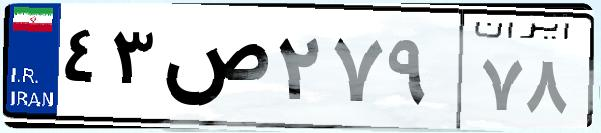2: (270, 28, 330, 110)
3: (110, 28, 158, 98)
4: (57, 26, 110, 100)
7: (330, 28, 385, 110), (475, 38, 525, 113)
8: (525, 38, 570, 115)
9: (385, 28, 445, 110)
ص: (158, 20, 270, 120)
